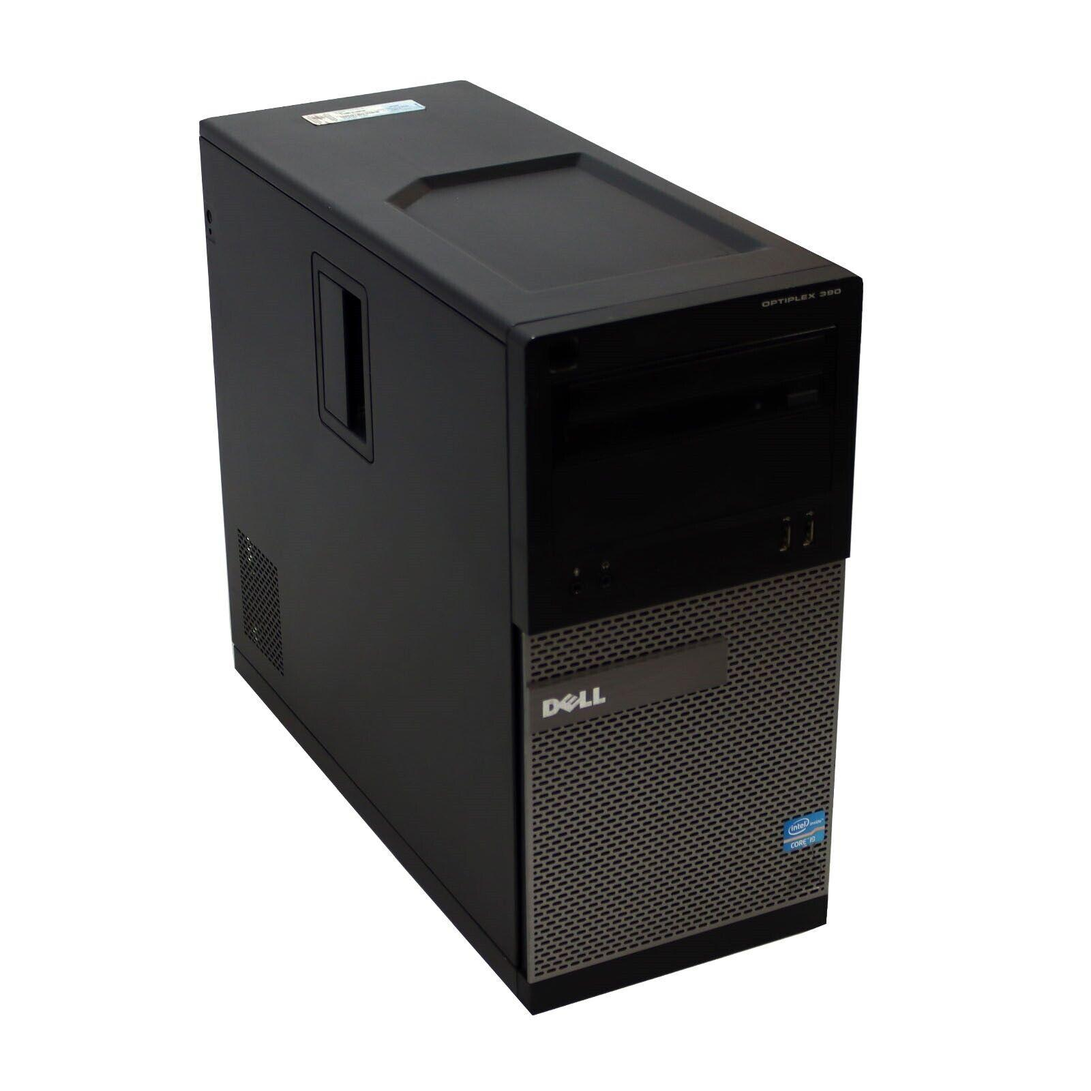DESKTOP PC: (188, 75, 875, 1014)
